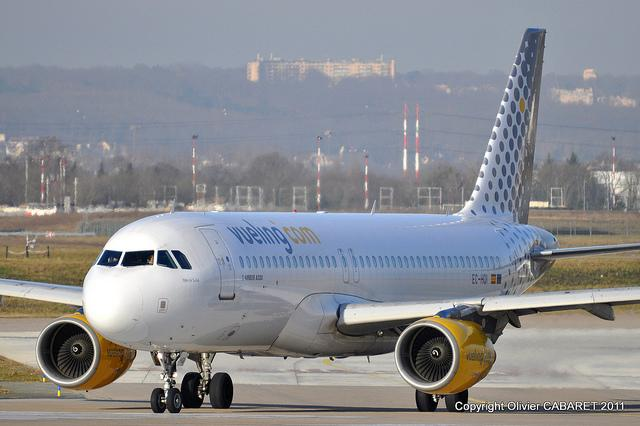airplane: (1, 27, 640, 415)
